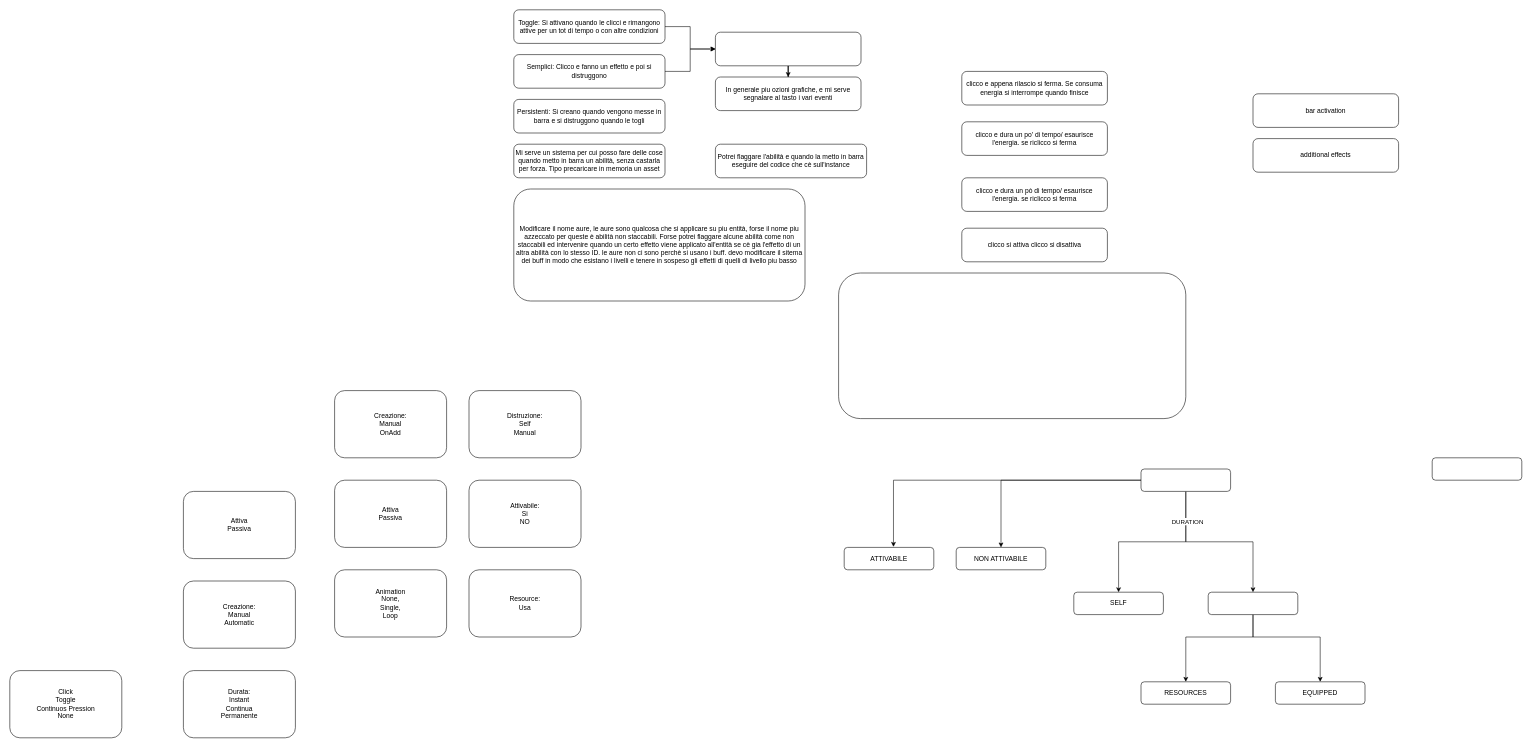
Some shapes in this 1532 by 748 pixel diagram are drawn without their labels. The box of each missing label's shape, as (x1, y1, x2, y2) in pixels:
ACTIVE: (1140, 468, 1231, 491)
CONTROLLED: (1208, 592, 1298, 615)
Creare un sistema di UI che quando un abilità è attiva illumina il tasto: (715, 32, 861, 66)
DEVO SEPARARE L'ATTIVAZIONE DAL FATTO CHE SE MESSA IN BARRA SI ATTIVA: (838, 272, 1186, 419)
PASSIVE: (1432, 457, 1522, 480)
